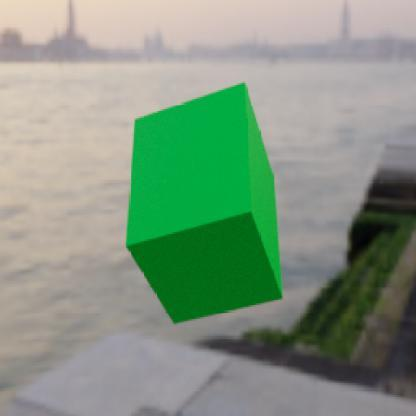cube: (124, 80, 284, 324)
